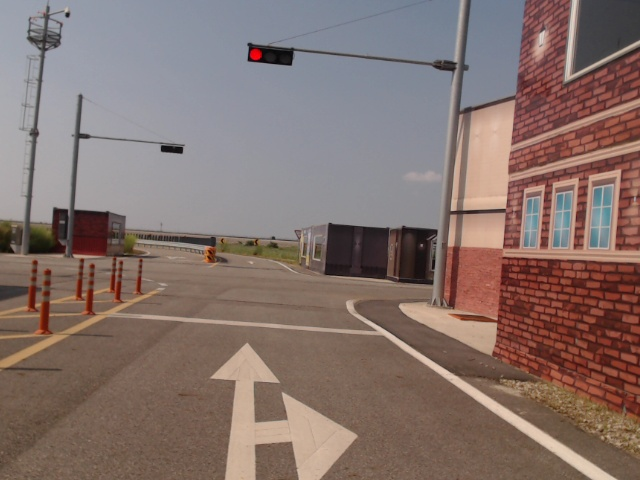red_3: (248, 45, 294, 67)
